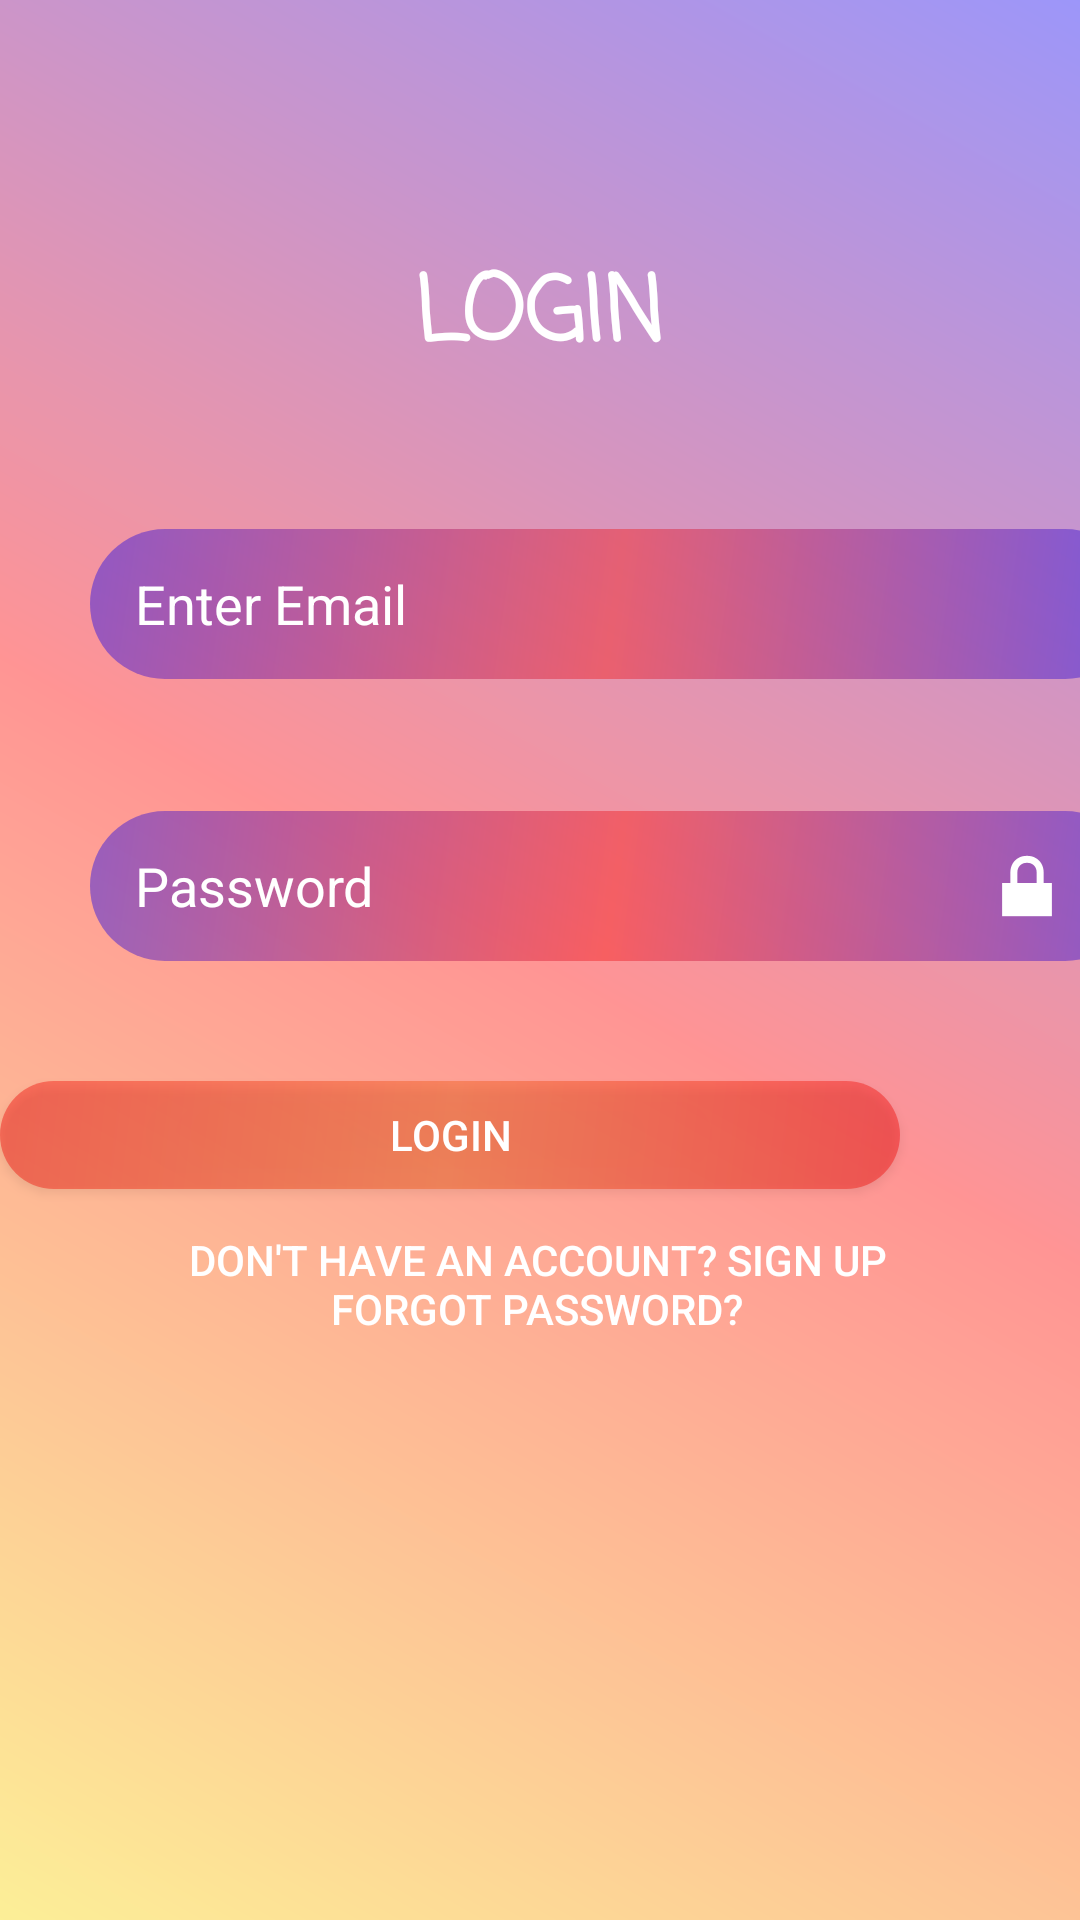

Screen size 1080*1920. Icon name, then its box in pixels as (x1, y1, x2, y2):
lock: (1002, 855, 1052, 917)
